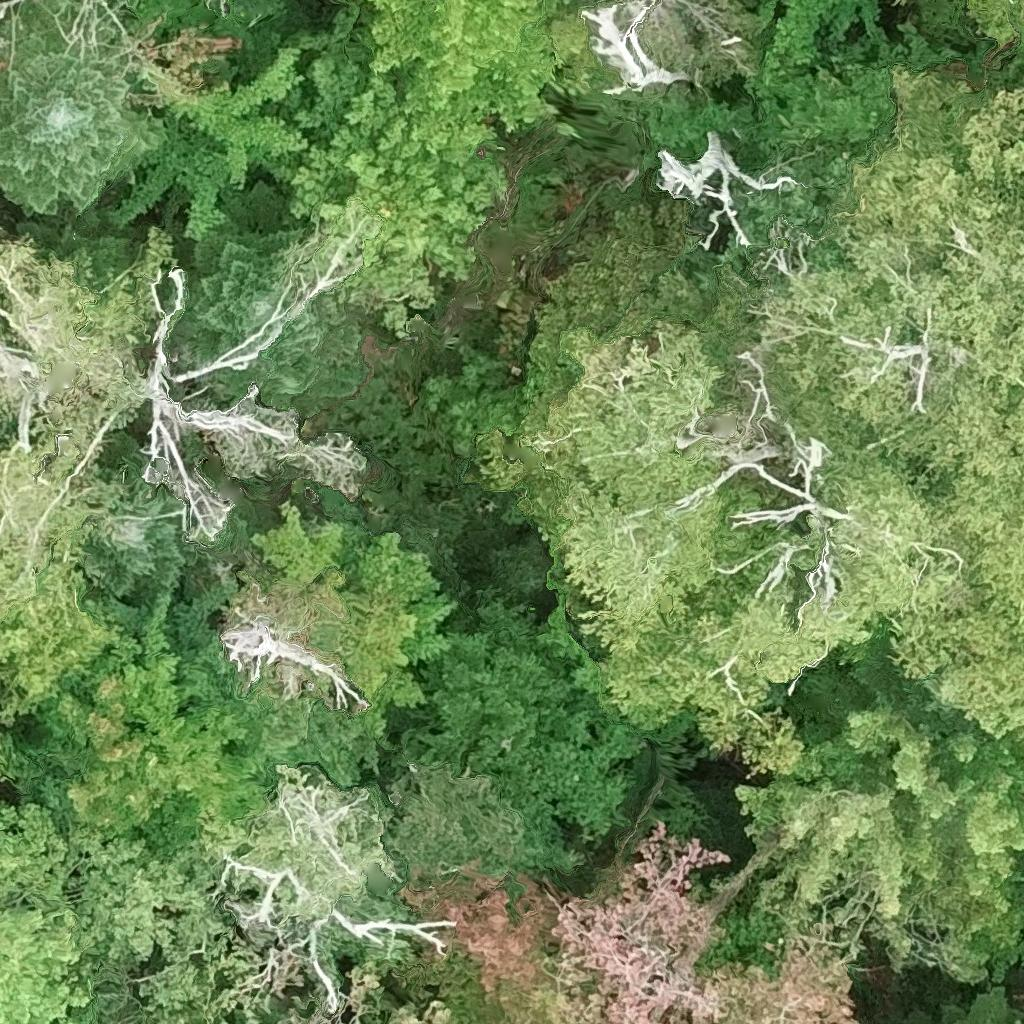crown: (733, 210, 1023, 737), (602, 402, 971, 774), (473, 320, 817, 648), (405, 820, 860, 1023), (0, 224, 171, 718), (738, 698, 1023, 989), (135, 215, 374, 539), (273, 6, 509, 274), (45, 594, 274, 857), (208, 695, 419, 960), (107, 15, 312, 240), (842, 67, 1023, 281), (74, 828, 265, 1023), (0, 4, 172, 214), (364, 0, 583, 143), (0, 804, 102, 1023), (386, 760, 548, 884), (944, 992, 1016, 1023), (0, 730, 16, 785), (1013, 306, 1023, 385), (50, 0, 62, 2)
